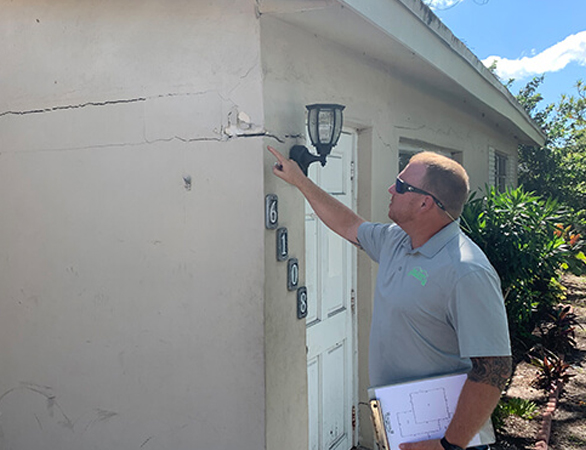crack: (0, 85, 240, 116), (28, 126, 283, 150), (280, 129, 305, 140)
